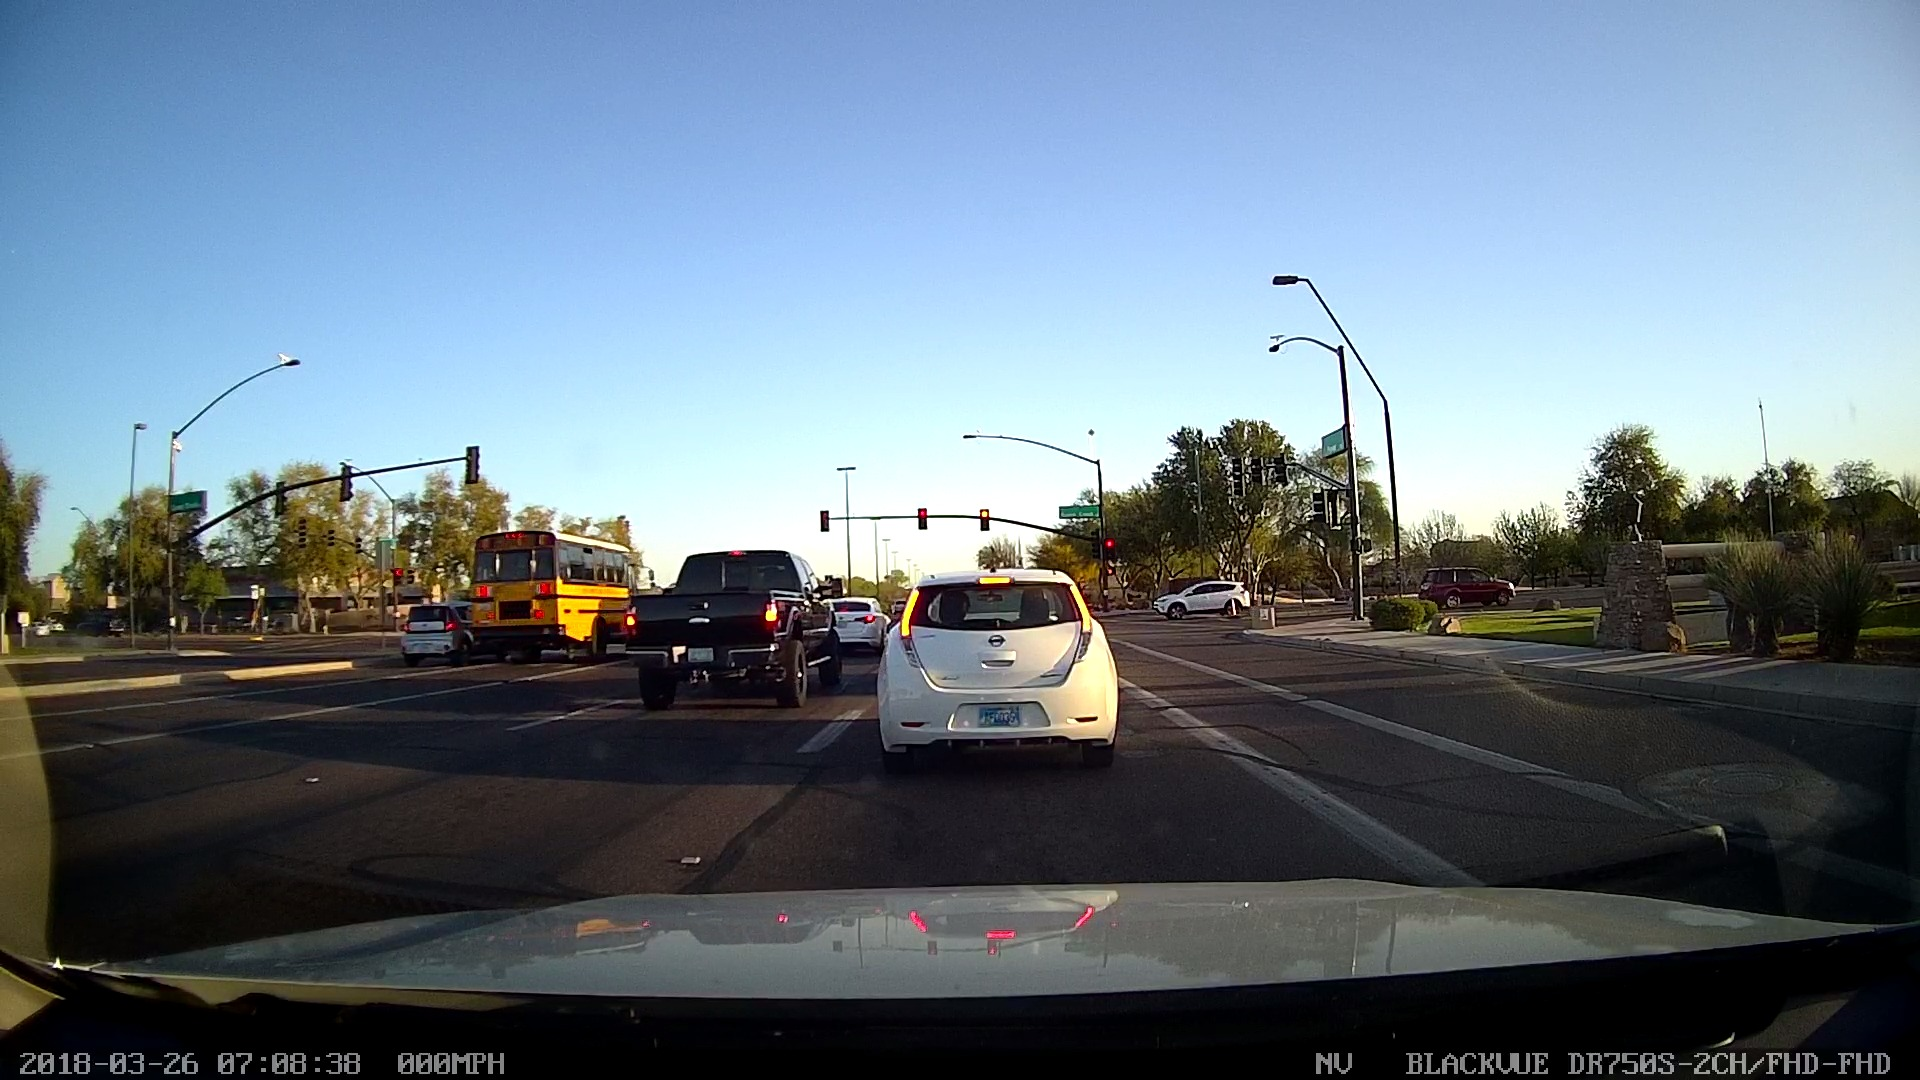vehicle: (862, 559, 1131, 771), (615, 537, 855, 721), (444, 497, 651, 679), (380, 591, 485, 674), (1415, 554, 1527, 615), (1145, 574, 1254, 624)
